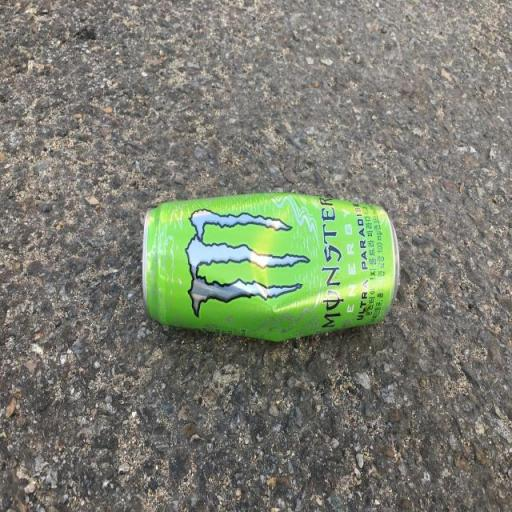metal: (105, 154, 414, 369)
